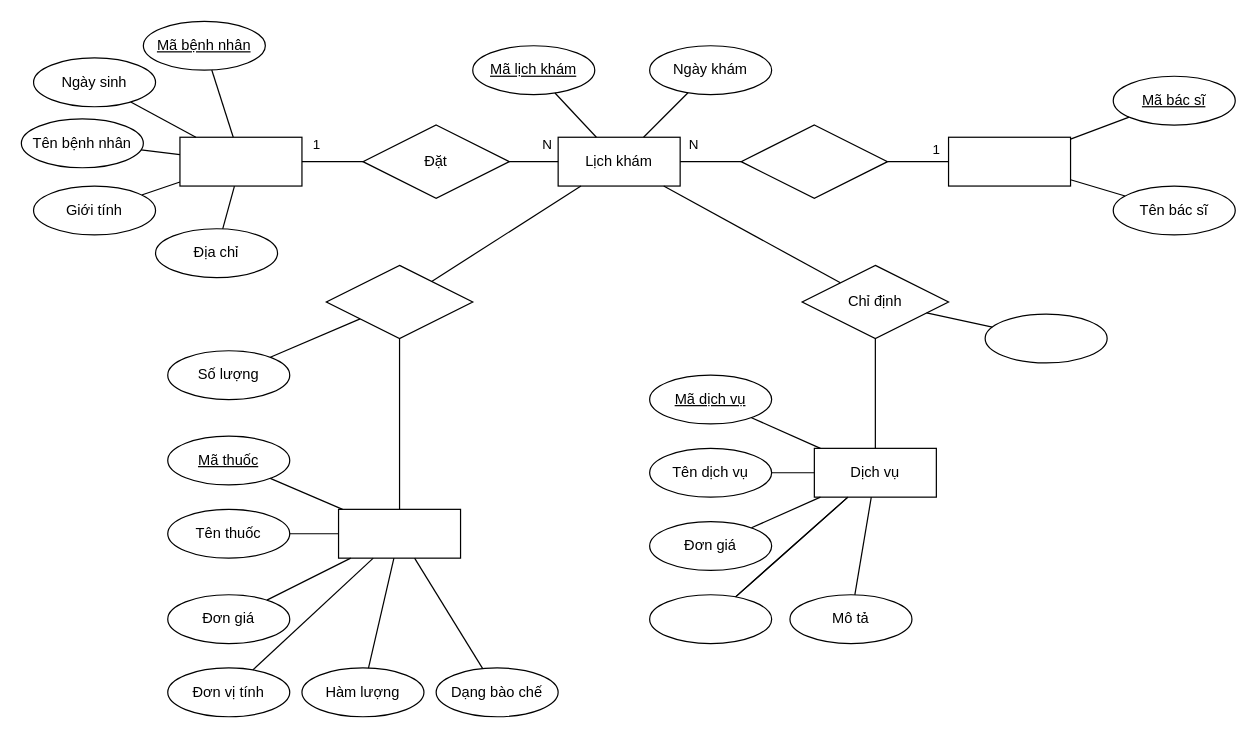
This 1257x738 diagram has some shape labels left out. The centre of each missing label's shape, as x and y in pixels:
Bác sĩ: (1009,161)
Bệnh nhân: (240,161)
Khám bởi: (814,161)
Kê: (399,301)
Loại dịch vụ: (710,619)
Số lần: (1045,338)
Thuốc: (399,533)
